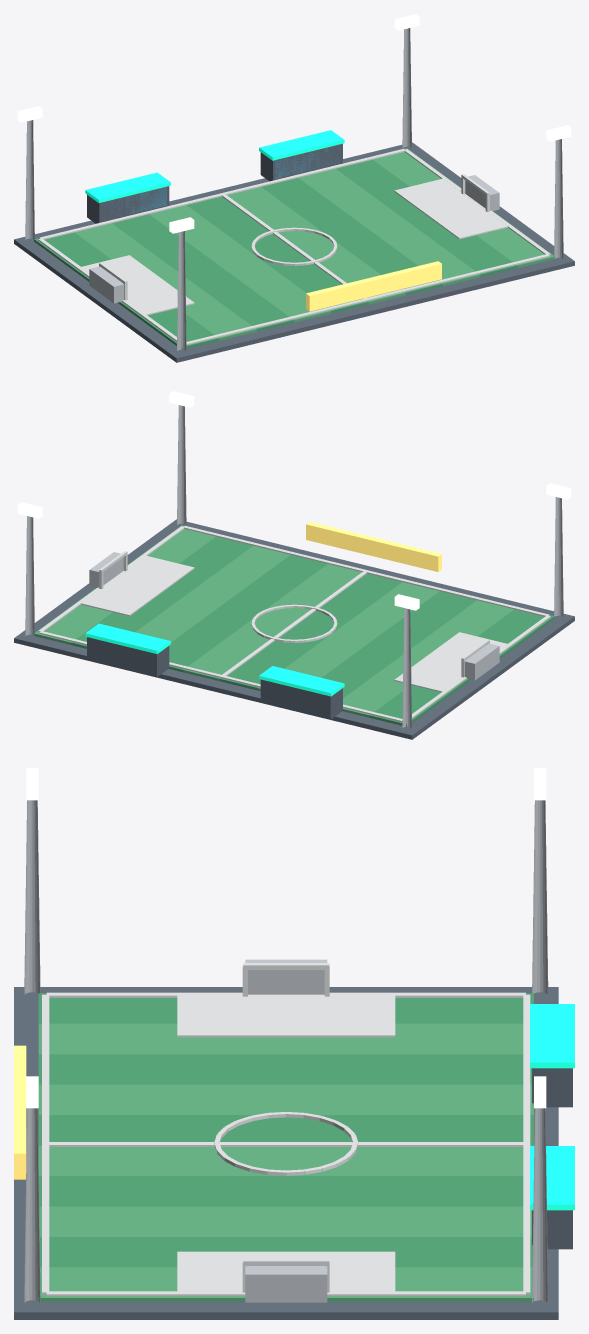
Rendered from training_pitch.master.glb.
The picture shows the model from 3 angles, top to bottom: view 1: azimuth 30°, elevation 25°; view 2: azimuth 150°, elevation 25°; view 3: azimuth 270°, elevation 25°; orthographic projection. The views are drawn at different scales.
Parts seen in each view (by area): view 1: training_pitch_master; view 2: training_pitch_master; view 3: training_pitch_master.
Boxes of the visible parts, x1,y1,x2,y2 form: training_pitch_master: (14,14,574,362); training_pitch_master: (14,391,574,739); training_pitch_master: (14,768,574,1319).
Bounding box in the file's own units: 3.76 × 1.22 × 2.74.
